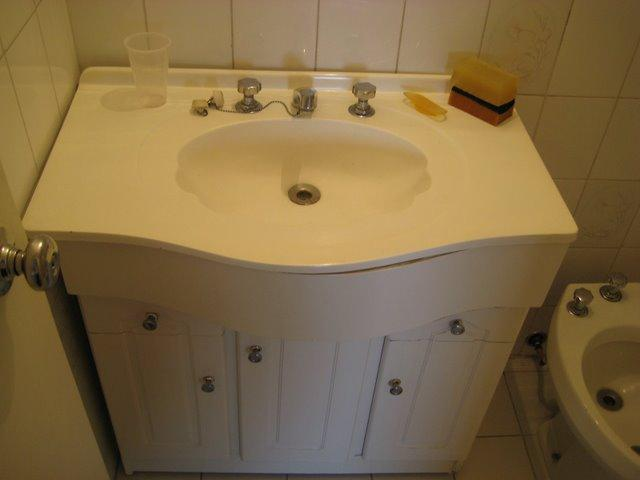Lavamanos: (177, 82, 457, 240)
Sanitario: (552, 274, 639, 469)
